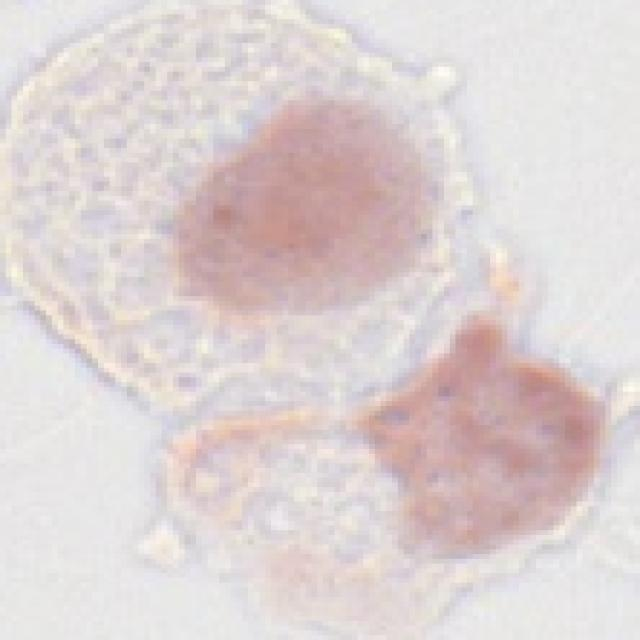nucleus: (148, 54, 472, 386)
